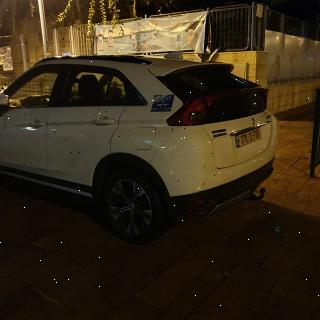LicensePlate: (236, 127, 264, 146)
